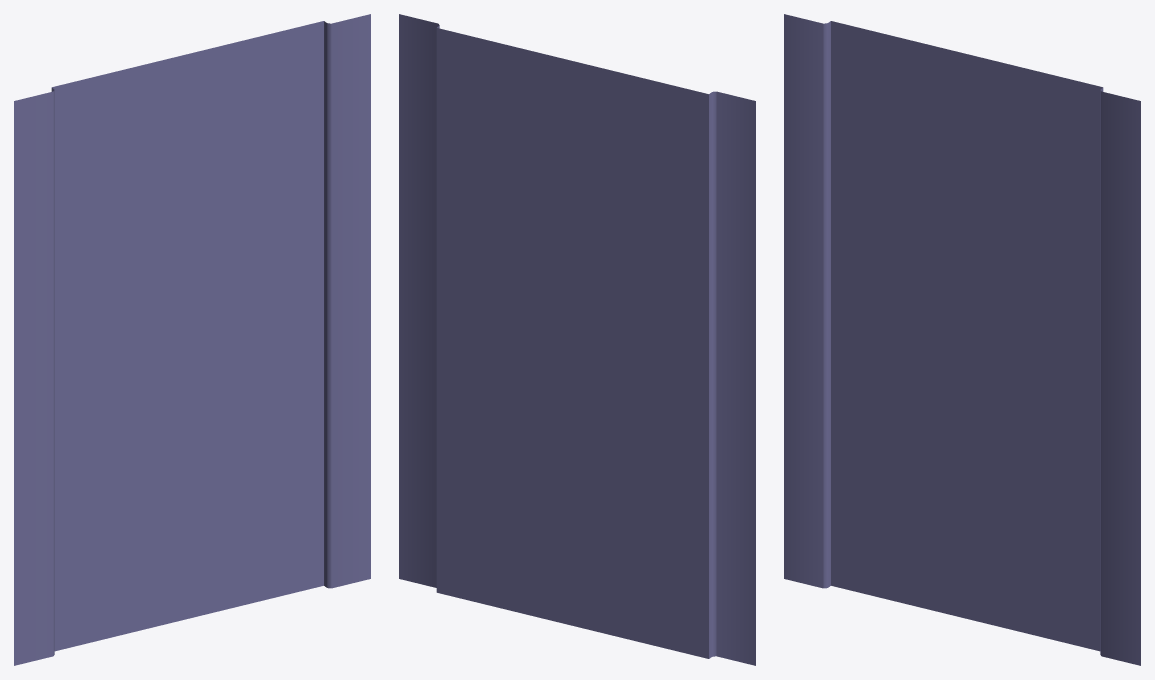
Rendered from M_A_wall_03.fbx.
3 views of the same model, side by side, from view 1: azimuth 30°, elevation 25°; view 2: azimuth 150°, elevation 25°; view 3: azimuth 330°, elevation 25° (orthographic).
Visible parts, largest first — view 1: M_A_wall_03; view 2: M_A_wall_03; view 3: M_A_wall_03.
Boxes of the visible parts, x1=… form: M_A_wall_03: x1=14, y1=14, x2=370, y2=665; M_A_wall_03: x1=399, y1=14, x2=755, y2=665; M_A_wall_03: x1=784, y1=14, x2=1140, y2=665.
Size of the model in its own units: 200 by 302 by 4.57.
